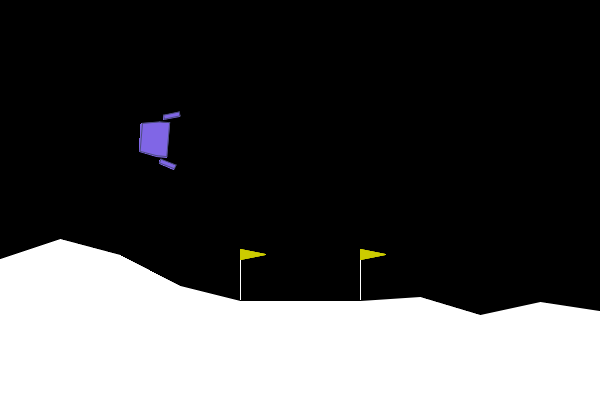lander: (136, 108, 181, 171)
